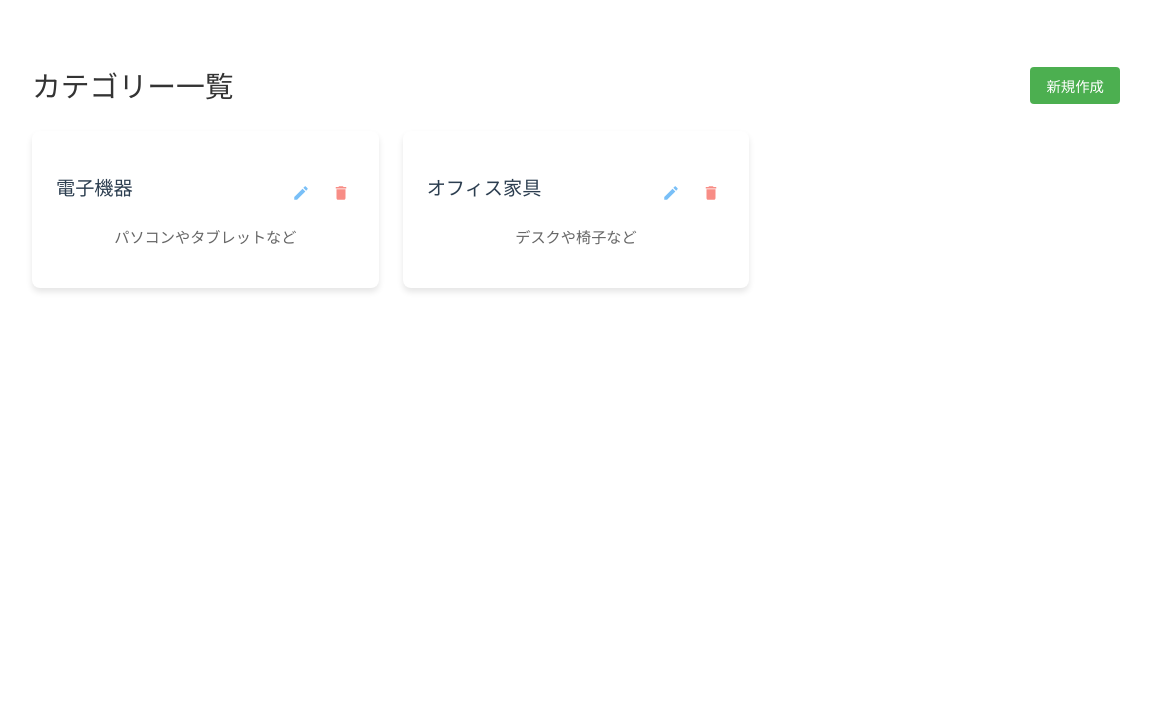
Test: CategoryList Component CRUD Tests › 新しいカテゴリーを作成できる
expect the heading "電子機器" is shown: met, box [56,174,133,203]
// 新規作成ボタンをクリック
Click the button "新規作成" at [1075, 86], box [1030,67,1120,104]
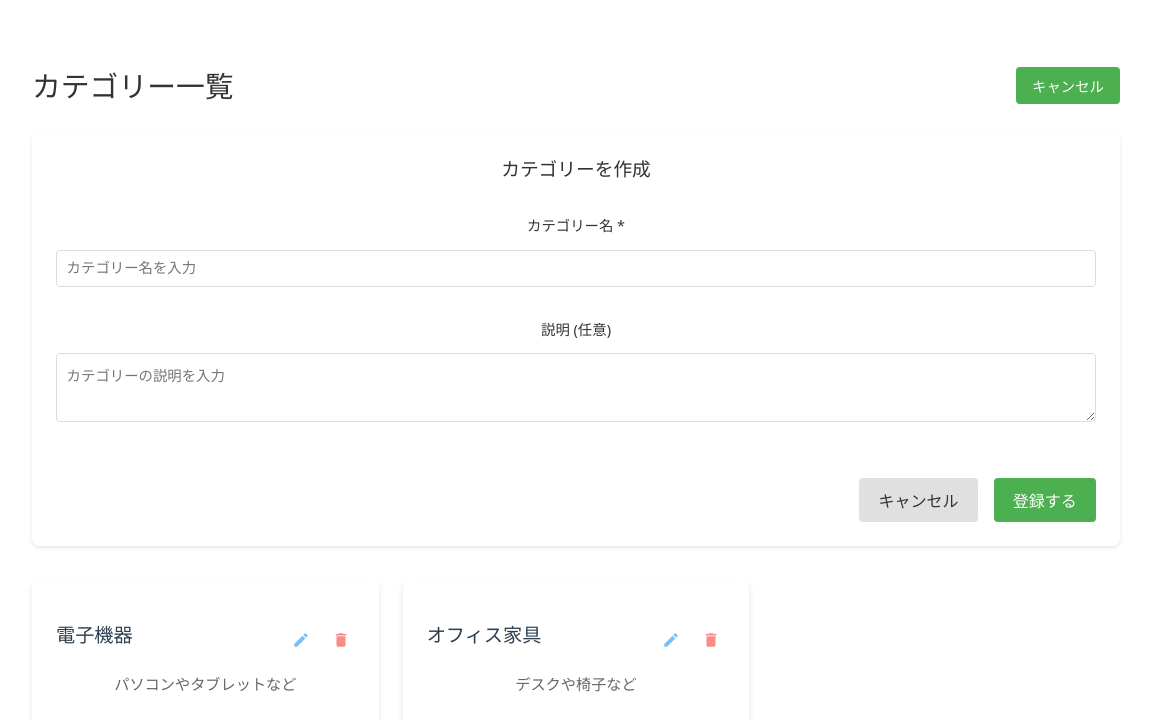
expect the heading "カテゴリーを作成" is shown: met, box [501,156,651,181]
//  フォームに入力
Type "新カテゴリー" into the field labelled "カテゴリー名 *" at [576, 268], box [56,250,1096,287]
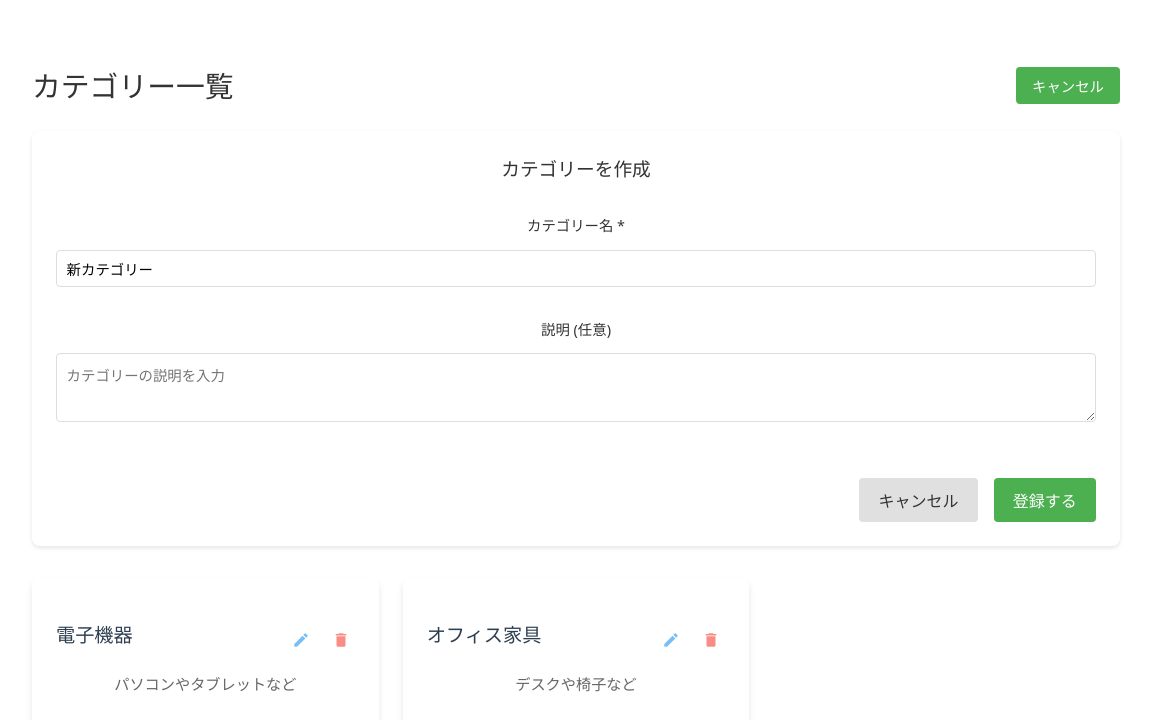
Type "新規追加の説明" into the text box labelled "説明 (任意)" at [576, 388], box [56,353,1096,422]
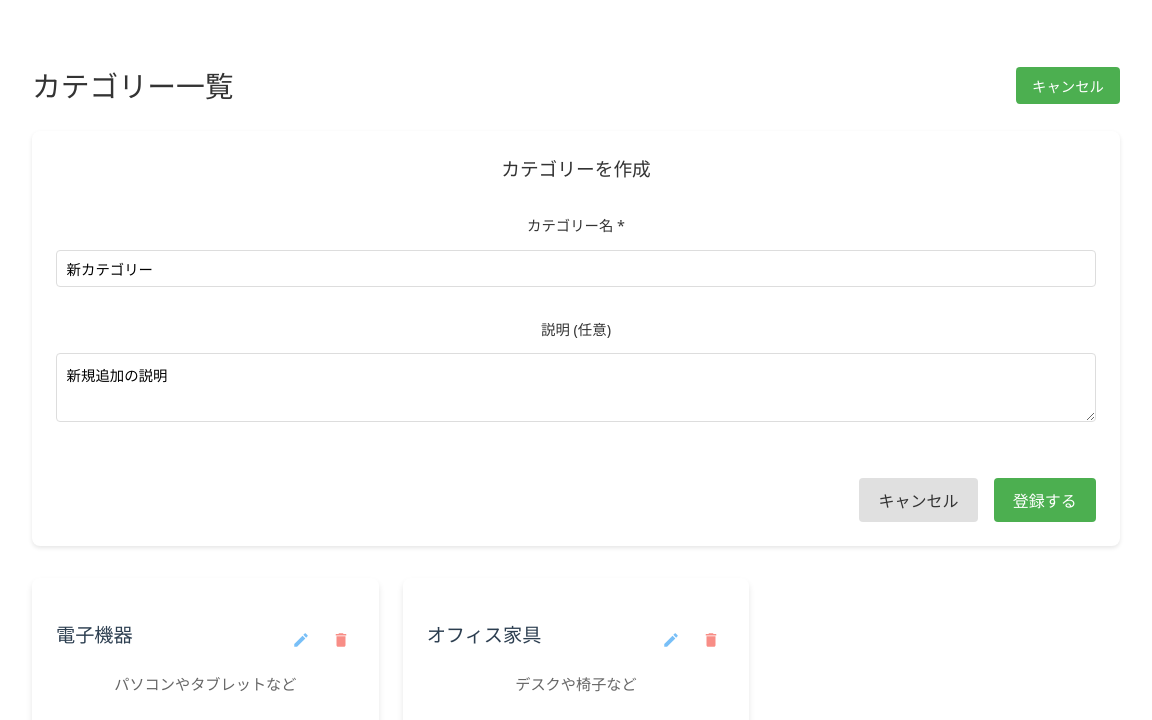
Submit the form with test id "category-form", box [56,155,1096,522]
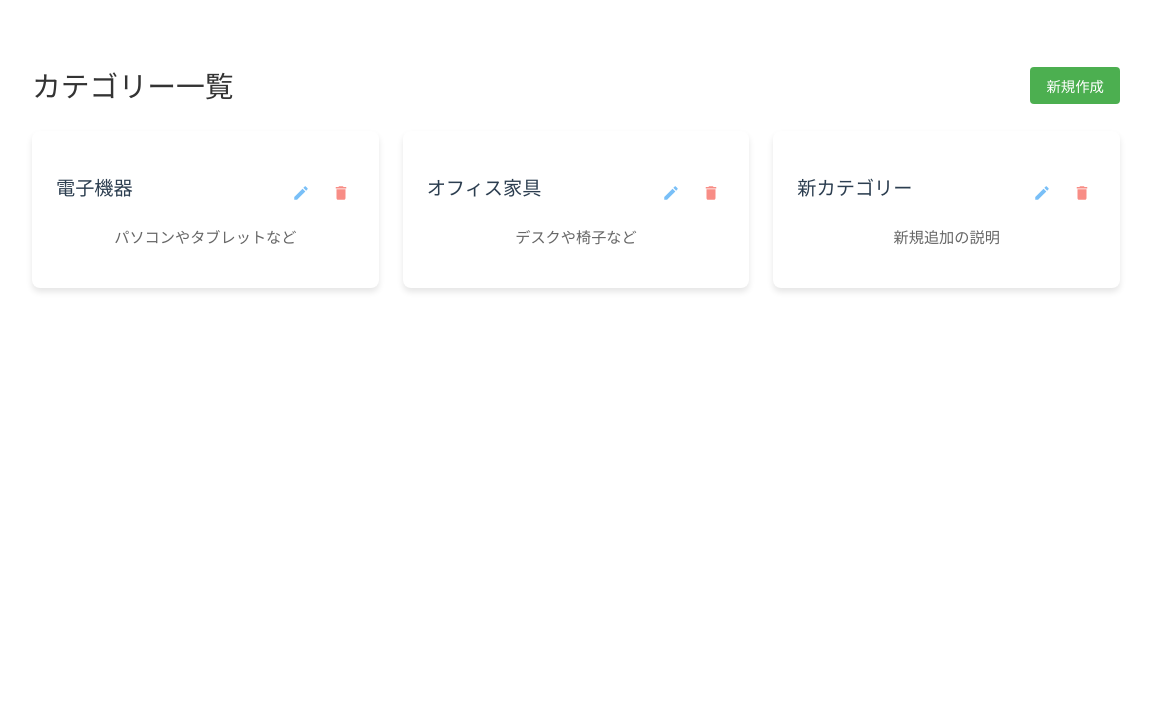
expect the heading "新カテゴリー" is shown: met, box [797,174,912,203]
expect the text "新規追加の説明" is shown: met, box [894,227,1000,247]
